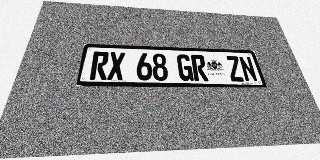6: (137, 53, 152, 80)
8: (152, 53, 168, 81)
G: (176, 54, 194, 81)
N: (238, 56, 258, 82)
R: (89, 51, 109, 80), (191, 55, 209, 81)
X: (107, 52, 125, 80)
Z: (225, 56, 245, 82)
